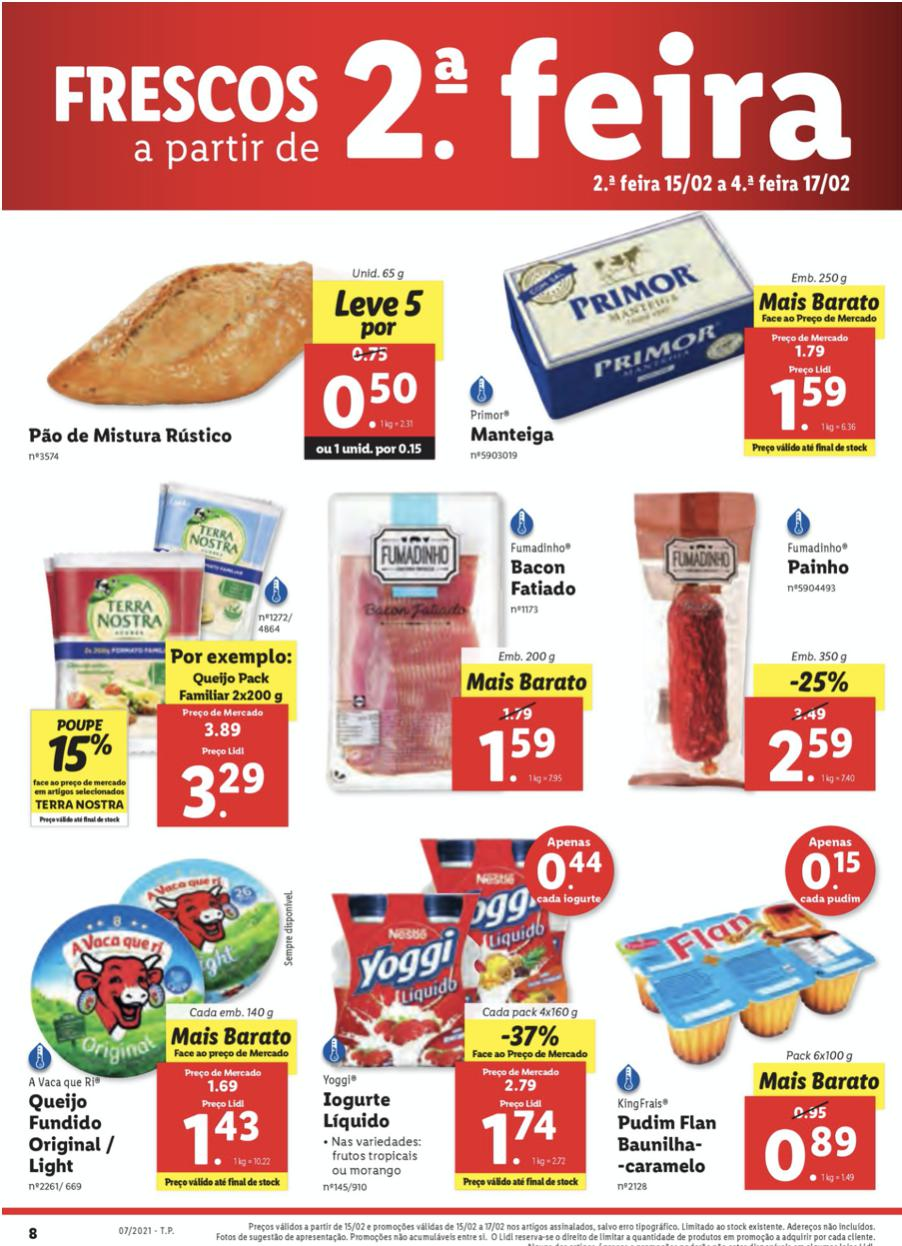name: (25, 1090, 122, 1178), (471, 1091, 568, 1173), (612, 1111, 720, 1176), (19, 424, 240, 450), (508, 554, 586, 604), (462, 421, 562, 453), (315, 1093, 399, 1131), (780, 556, 855, 581)
price: (746, 356, 875, 445), (162, 738, 286, 828), (309, 361, 435, 438), (166, 1090, 283, 1170), (465, 722, 580, 793), (760, 1119, 866, 1190), (765, 721, 866, 793)
product: (306, 813, 606, 1191), (443, 218, 892, 467), (606, 813, 892, 1194), (17, 478, 320, 836), (11, 224, 443, 468), (17, 834, 306, 1191), (600, 478, 885, 798), (320, 478, 600, 798)
promotion: (37, 730, 117, 781), (782, 662, 855, 699), (497, 1018, 562, 1051)
